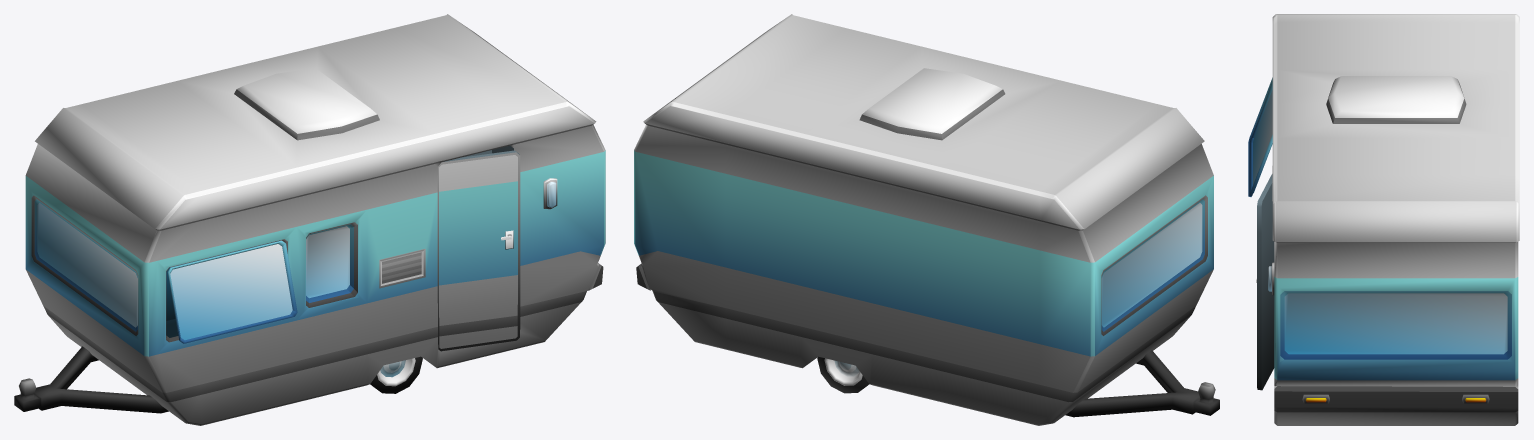
Rendered from Caravan.glb.
3 views of the same model, side by side, from view 1: azimuth 30°, elevation 25°; view 2: azimuth 150°, elevation 25°; view 3: azimuth 270°, elevation 25° (orthographic).
Visible parts, largest first — view 1: Caravan.002; view 2: Caravan.002; view 3: Caravan.002.
Boxes of the visible parts, box(x1,y1,x2,y2) form: Caravan.002: box(14, 14, 605, 425); Caravan.002: box(634, 14, 1219, 425); Caravan.002: box(1248, 14, 1519, 425).
Bounding box in the file's own units: 11.43 × 5.5 × 5.12.
1 material, 1 textured.
